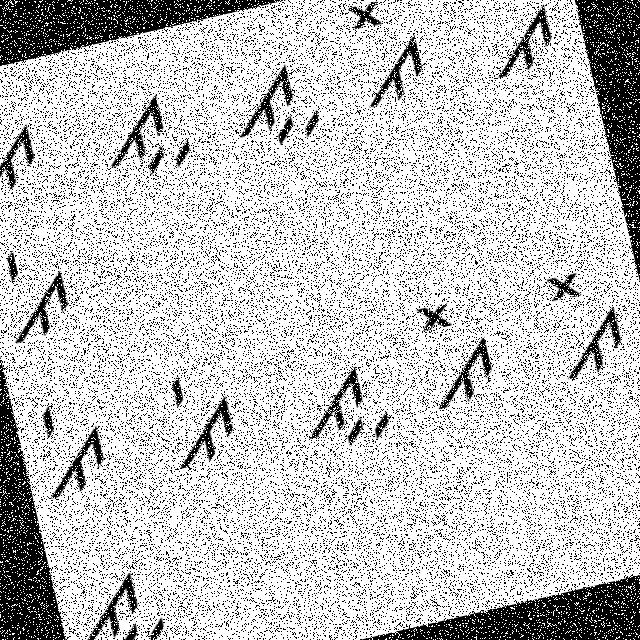kah: (281, 346, 404, 464), (208, 42, 329, 161), (80, 78, 200, 195), (62, 547, 178, 639)
ke: (138, 352, 258, 490), (17, 384, 122, 509), (0, 221, 93, 351), (0, 73, 54, 210)
ko: (529, 242, 639, 389), (404, 278, 514, 420), (325, 0, 437, 123), (452, 0, 565, 90)
